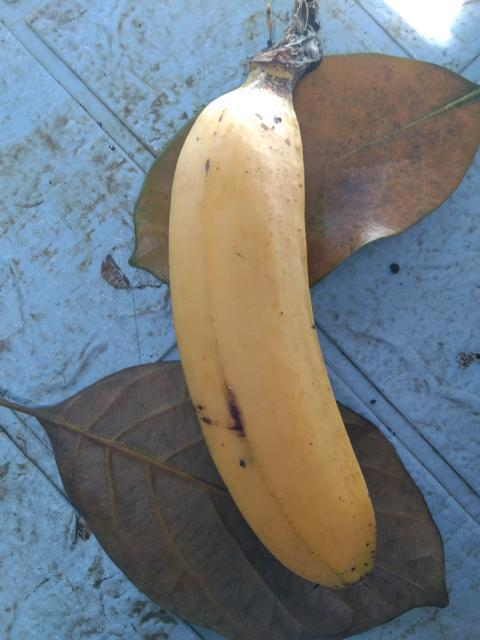freshripe: (126, 71, 399, 619)
